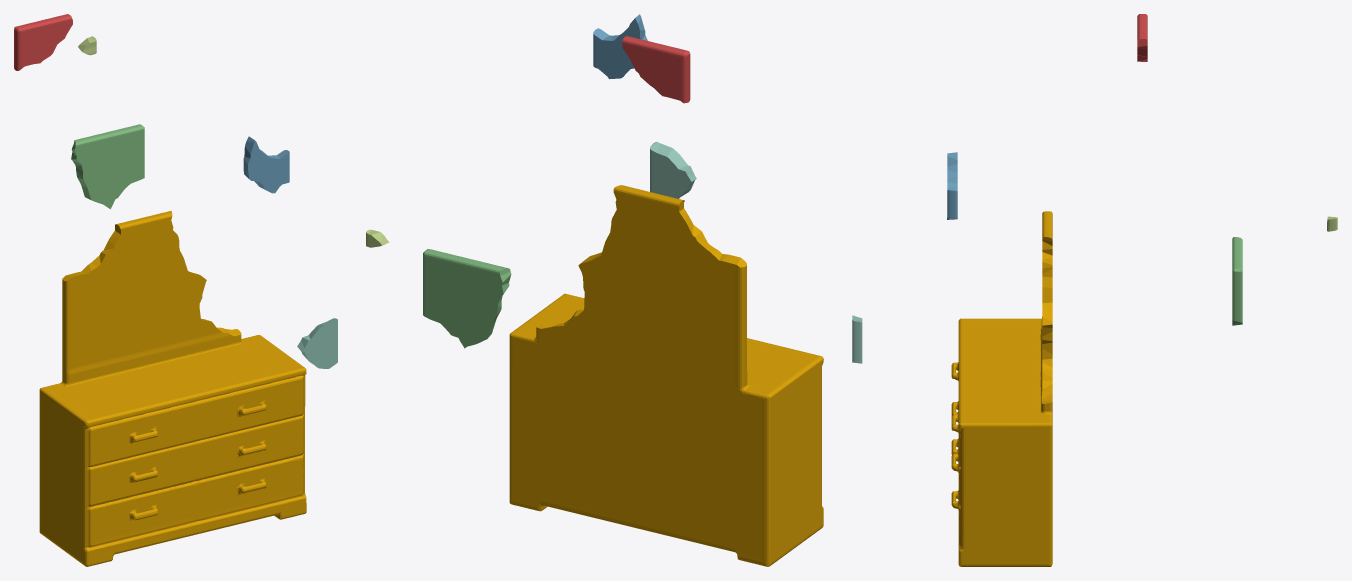
The model's file is fractured_61_6pcs_transformed.glb.
3 views of the same model, side by side, from view 1: azimuth 30°, elevation 25°; view 2: azimuth 150°, elevation 25°; view 3: azimuth 270°, elevation 25° (orthographic). The views are drawn at different scales.
Parts seen in each view (by area): view 1: piece_0.obj, piece_3.obj, piece_1.obj, piece_2.obj, piece_4.obj; view 2: piece_0.obj, piece_3.obj, piece_1.obj, piece_4.obj, piece_2.obj; view 3: piece_0.obj, piece_3.obj, piece_2.obj.
Boxes of the visible parts, x1,y1,x2,y2 form: piece_0.obj: (39,211,306,566); piece_3.obj: (71,124,144,209); piece_1.obj: (14,14,72,70); piece_2.obj: (243,136,289,193); piece_4.obj: (297,318,337,368); piece_0.obj: (509,185,823,566); piece_3.obj: (423,249,511,348); piece_1.obj: (622,36,690,103); piece_4.obj: (650,142,696,198); piece_2.obj: (593,14,647,79); piece_0.obj: (951,211,1052,566); piece_3.obj: (1232,237,1242,325); piece_2.obj: (947,152,957,219).
Bounding box in the file's own units: 0.7955 × 1.6 × 1.53.
